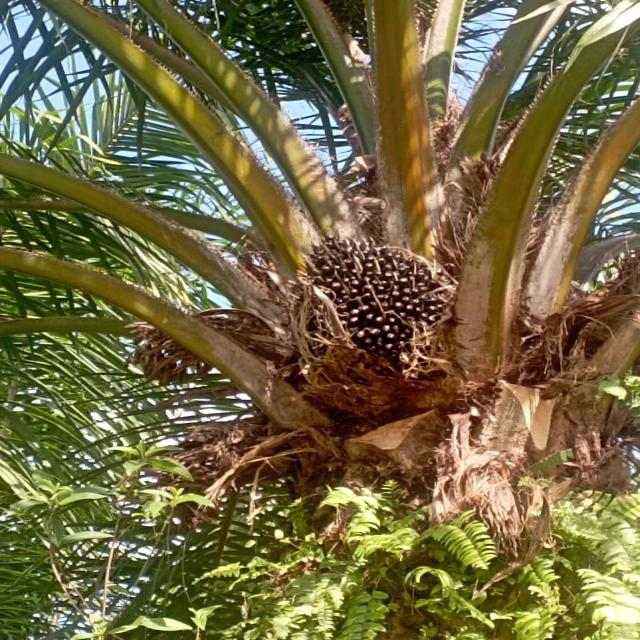fraksi 00: (274, 206, 505, 400)
